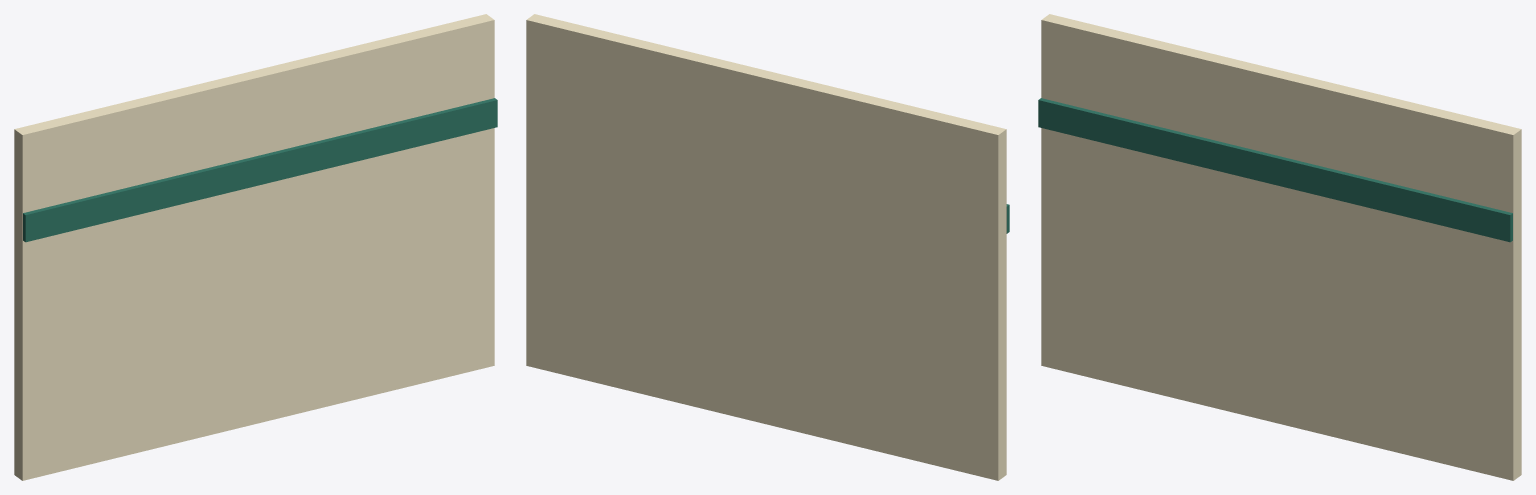
File: north.glb
The picture shows the model from 3 angles, left to right: view 1: azimuth 30°, elevation 25°; view 2: azimuth 150°, elevation 25°; view 3: azimuth 330°, elevation 25°; orthographic projection.
Parts seen in each view (by area): view 1: north; view 2: north; view 3: north.
Boxes of the visible parts, bbox=[...] form: north: bbox=[14, 14, 497, 480]; north: bbox=[526, 14, 1009, 480]; north: bbox=[1038, 14, 1521, 480].
Size of the model in its own units: 4 by 2.8 by 0.165.
Materials: 1 (1 with a texture image).
